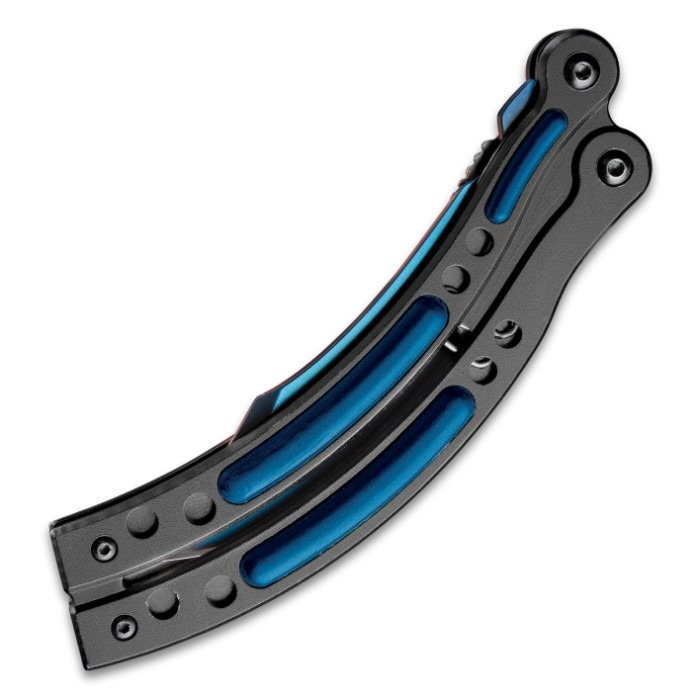knife: (45, 21, 662, 687)
